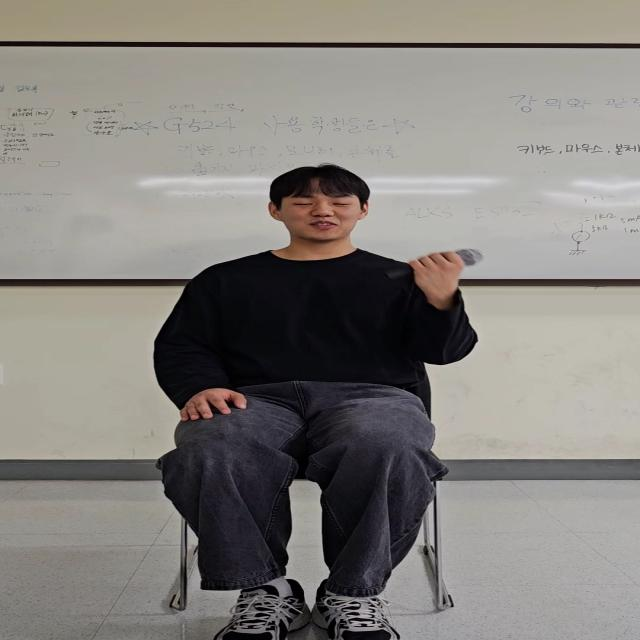curl: (380, 251, 502, 371)
